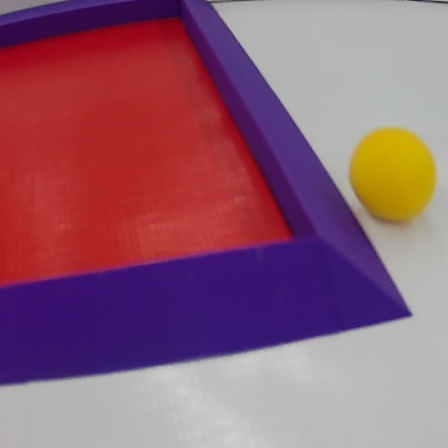red_aim: (0, 0, 423, 392)
yellow: (348, 129, 439, 226)
